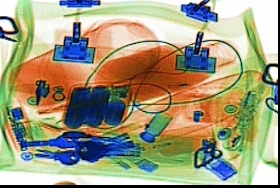powerbank: (60, 78, 131, 130)
